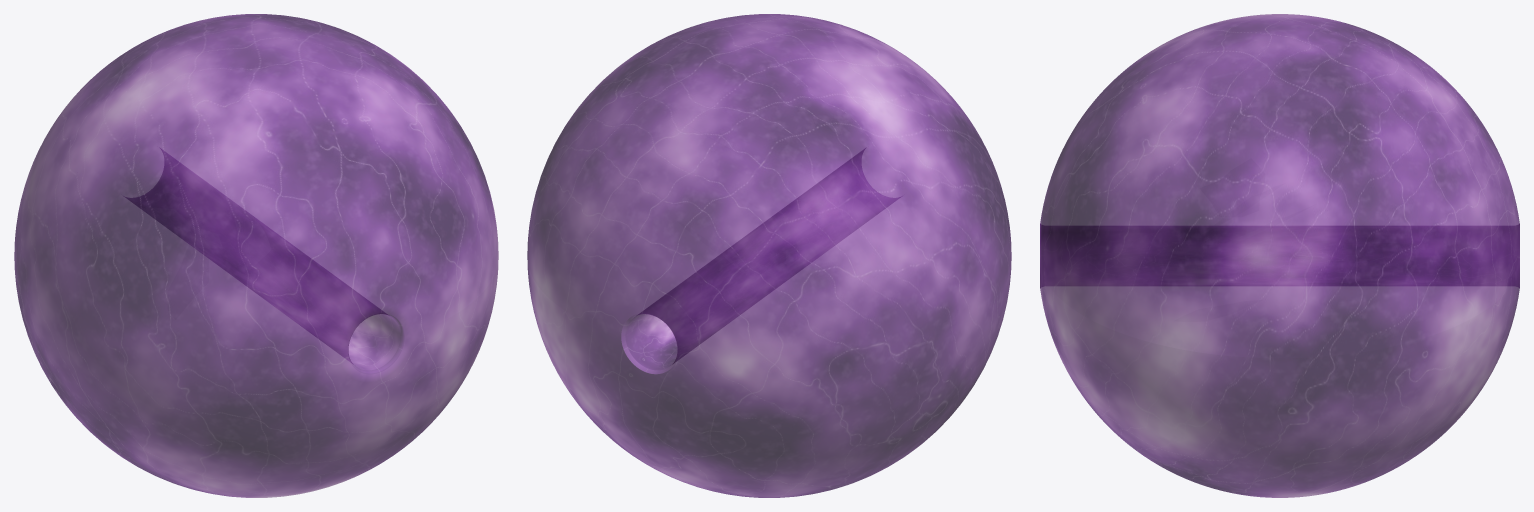
The model's file is amethyst.glb.
3 views of the same model, side by side, from view 1: azimuth 30°, elevation 25°; view 2: azimuth 150°, elevation 25°; view 3: azimuth 270°, elevation 25° (orthographic).
Parts seen in each view (by area): view 1: amethyst.001; view 2: amethyst.001; view 3: amethyst.001.
Boxes of the visible parts, box(x1,y1,x2,y2) form: amethyst.001: box(14, 14, 498, 497); amethyst.001: box(527, 14, 1011, 497); amethyst.001: box(1040, 14, 1519, 497).
Bounding box in the file's own units: 0.008 × 0.008 × 0.00793.
2 materials, 1 textured.
